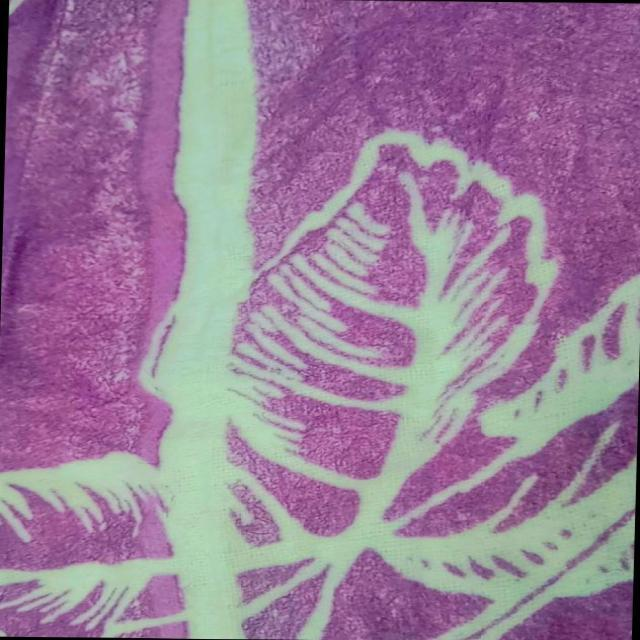selvet: (166, 2, 277, 639)
